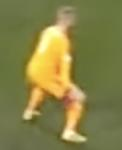goalkeeper: (14, 0, 112, 147)
